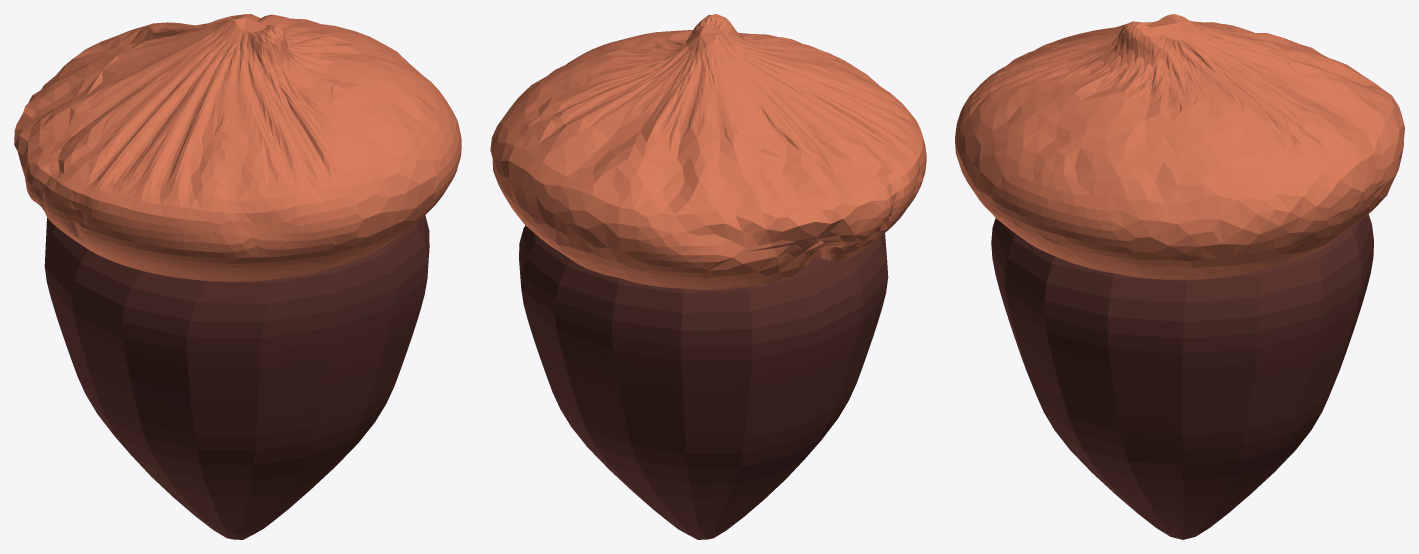
Rendered from grandenoz.glb.
The picture shows the model from 3 angles, left to right: view 1: azimuth 30°, elevation 25°; view 2: azimuth 150°, elevation 25°; view 3: azimuth 270°, elevation 25°; orthographic projection. The views are drawn at different scales.
Visible parts, largest first — view 1: cabeca, cabeca.001; view 2: cabeca, cabeca.001; view 3: cabeca, cabeca.001.
Boxes of the visible parts, x1=… form: cabeca: x1=14, y1=14, x2=461, y2=281; cabeca.001: x1=44, y1=215, x2=429, y2=539; cabeca: x1=490, y1=14, x2=926, y2=289; cabeca.001: x1=501, y1=186, x2=888, y2=539; cabeca: x1=955, y1=14, x2=1404, y2=279; cabeca.001: x1=991, y1=183, x2=1385, y2=539.
Bounding box in the file's own units: 0.4658 × 0.5978 × 0.467.
